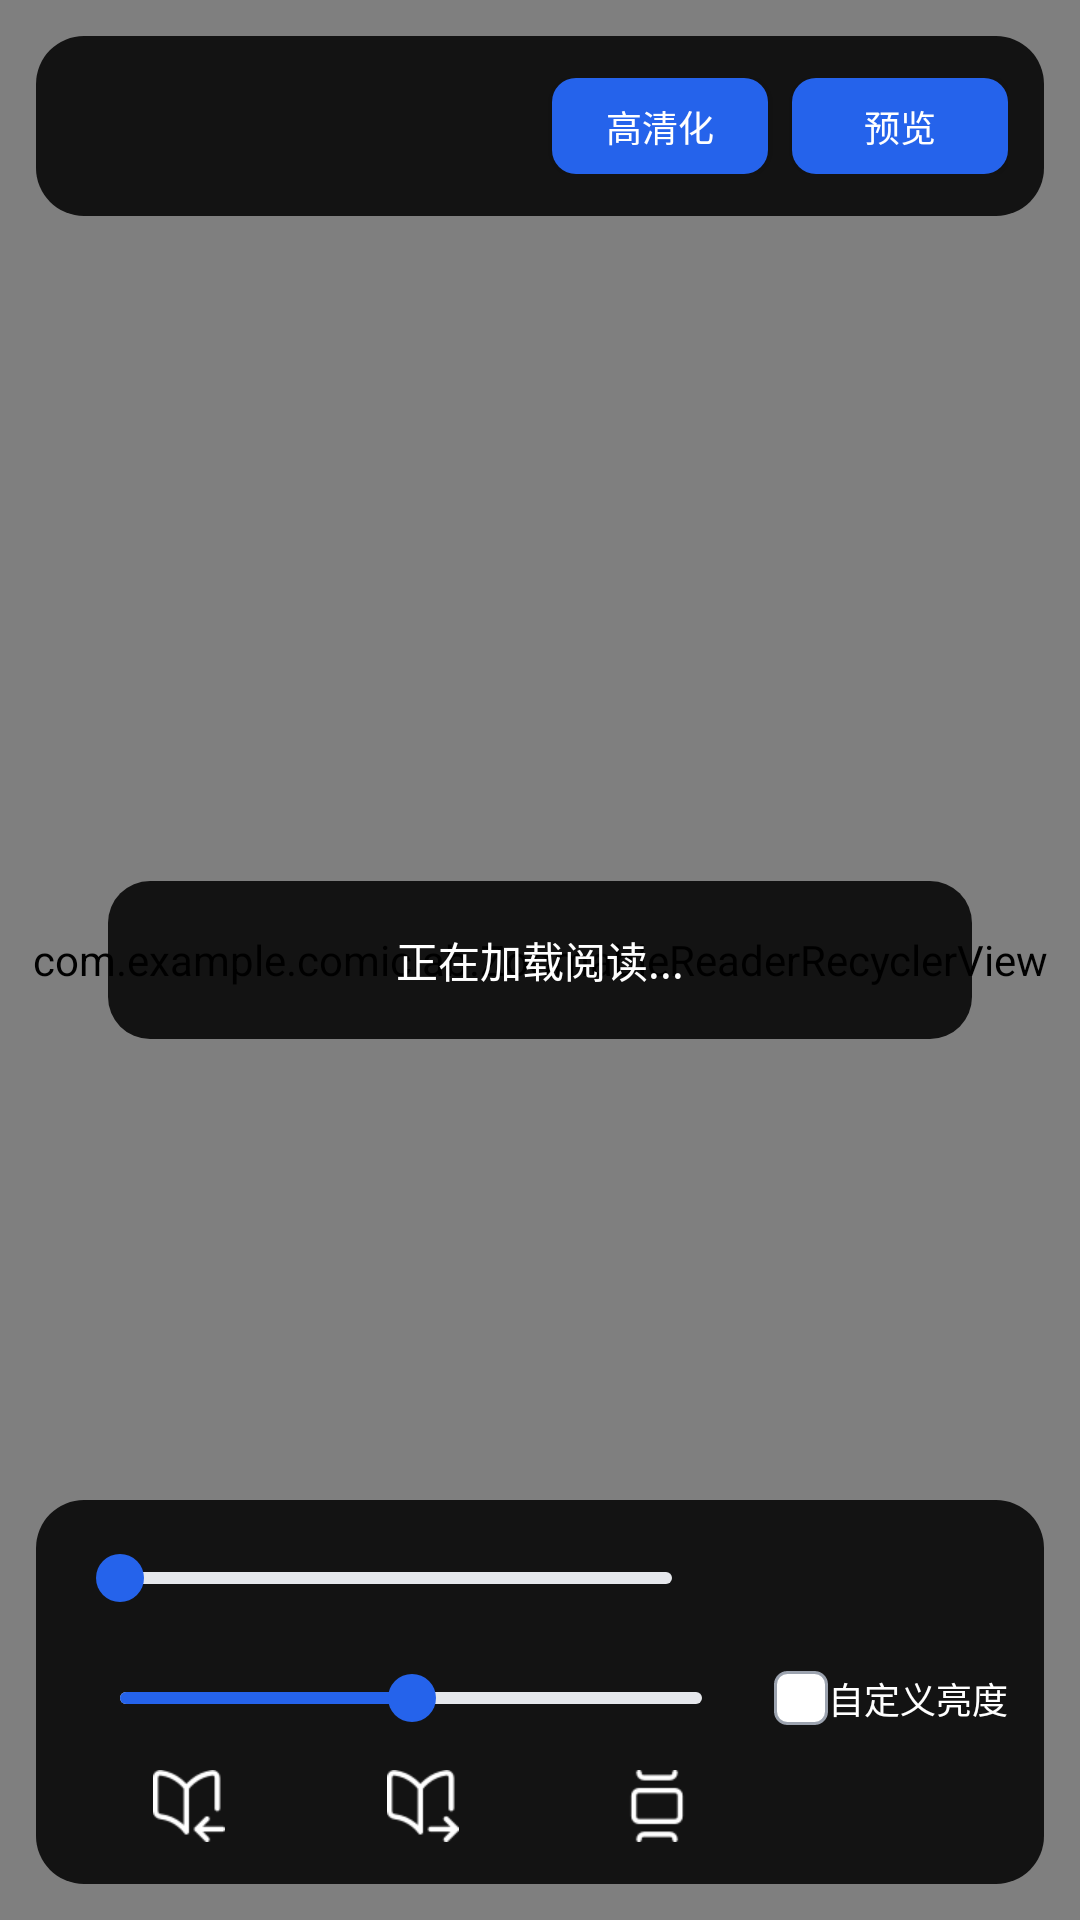

Icon bounding boxes for this 1080px×1920px phone screenshot, format [x1=x1, y1=y1, x2=x2, y2=y2]:
从上到下: [x1=630, y1=1770, x2=684, y2=1842]
从右到左: [x1=153, y1=1770, x2=225, y2=1842]
从左到右: [x1=387, y1=1770, x2=459, y2=1842]
